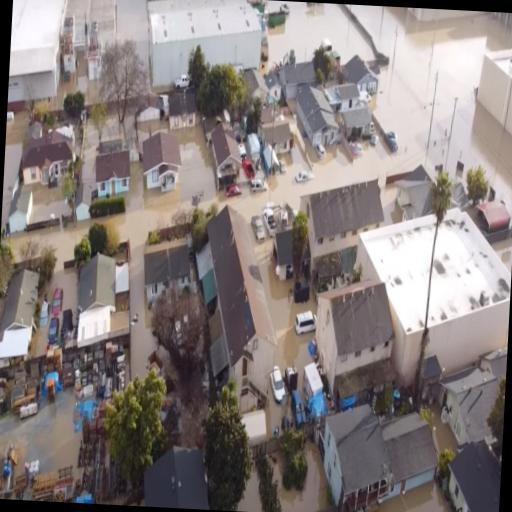flood: (114, 5, 512, 375), (251, 230, 309, 387), (11, 221, 88, 316), (0, 387, 81, 474), (268, 1, 370, 64), (271, 440, 329, 512), (376, 481, 452, 512), (238, 470, 262, 512), (435, 406, 456, 448), (493, 237, 512, 273), (29, 325, 47, 358)
house: (348, 198, 512, 394), (195, 208, 285, 402), (142, 0, 266, 89), (311, 276, 393, 408), (317, 395, 395, 512), (371, 401, 446, 512), (298, 182, 384, 274), (7, 0, 68, 115), (140, 442, 212, 510), (438, 368, 501, 444), (445, 434, 503, 512), (143, 234, 192, 304), (293, 84, 338, 158), (18, 140, 76, 195), (77, 250, 119, 318), (0, 265, 40, 336), (141, 129, 184, 195), (208, 117, 242, 184), (92, 148, 130, 198), (336, 102, 372, 144), (342, 53, 378, 94), (280, 58, 314, 100), (167, 92, 197, 130), (262, 120, 292, 155), (484, 11, 512, 41), (335, 77, 362, 108), (263, 72, 282, 102), (141, 93, 160, 122)
